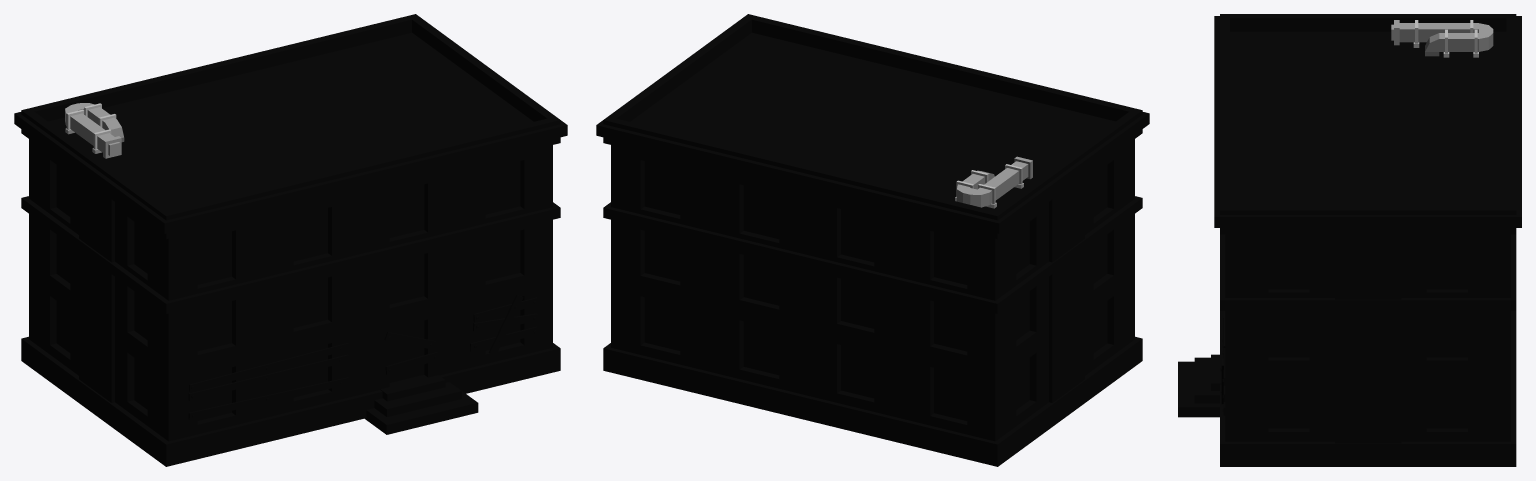
The model's file is SA_Bld_HospitalBuildingSmall_Damaged_01.gltf.
3 views of the same model, side by side, from view 1: azimuth 30°, elevation 25°; view 2: azimuth 150°, elevation 25°; view 3: azimuth 270°, elevation 25° (orthographic). The views are drawn at different scales.
Parts seen in each view (by area): view 1: SA_Bld_HospitalBuildingSmall_Damaged_01; view 2: SA_Bld_HospitalBuildingSmall_Damaged_01; view 3: SA_Bld_HospitalBuildingSmall_Damaged_01.
Boxes of the visible parts, x1=… form: SA_Bld_HospitalBuildingSmall_Damaged_01: x1=14, y1=14, x2=567, y2=466; SA_Bld_HospitalBuildingSmall_Damaged_01: x1=596, y1=14, x2=1149, y2=466; SA_Bld_HospitalBuildingSmall_Damaged_01: x1=1178, y1=14, x2=1521, y2=466.
Size of the model in its own units: 24.21 by 14.84 by 17.5.
Materials: 1 (1 with a texture image).
